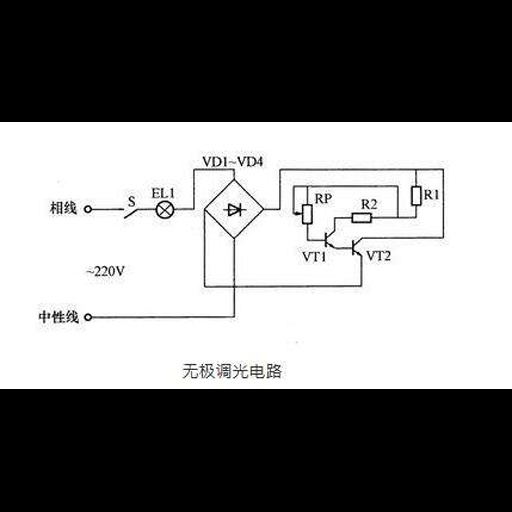firstresistance: (348, 209, 374, 225), (406, 184, 424, 207)
light: (153, 199, 177, 220)
npn: (349, 234, 365, 259)
pnp: (318, 228, 340, 249)
